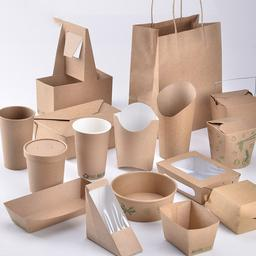cardboard: (150, 86, 202, 162), (146, 200, 223, 248), (68, 116, 116, 183), (0, 97, 38, 176), (23, 138, 66, 190)
